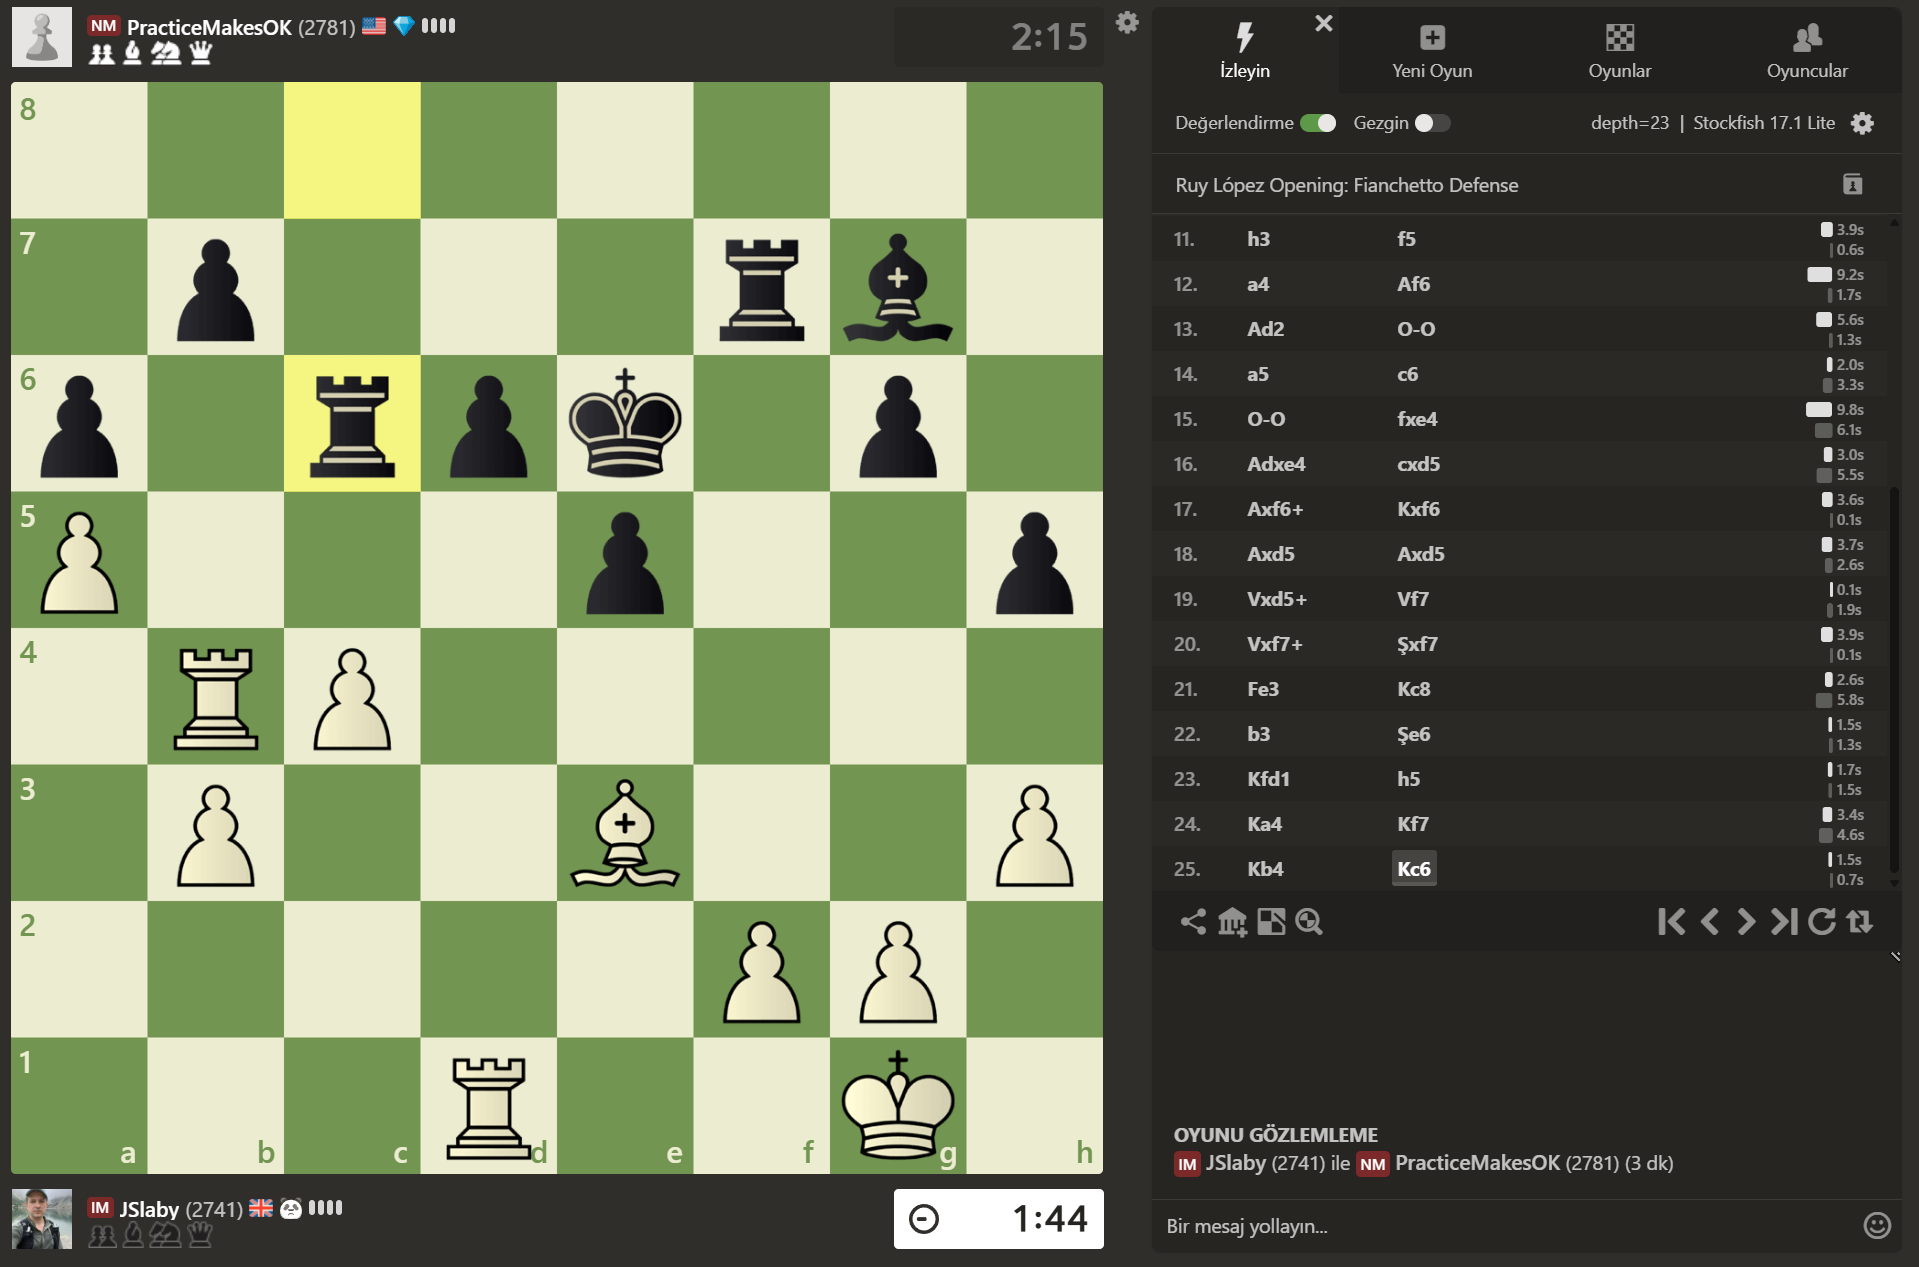beyaz_fil: (567, 769, 689, 892)
beyaz_kale: (430, 1042, 550, 1167), (157, 633, 276, 759)
beyaz_piyon: (288, 636, 416, 758), (974, 769, 1093, 895), (20, 501, 139, 624), (704, 911, 822, 1032), (157, 773, 274, 892), (844, 908, 947, 1024)
beyaz_sah: (839, 1042, 962, 1171)
siyah_fil: (832, 223, 960, 344)
siyah_kale: (704, 225, 824, 349), (291, 362, 407, 484)
siyah_piyon: (428, 356, 550, 484), (974, 492, 1093, 617), (563, 501, 684, 621), (16, 368, 139, 479), (156, 221, 266, 345), (844, 361, 955, 481)
siyah_sah: (566, 361, 689, 478)
